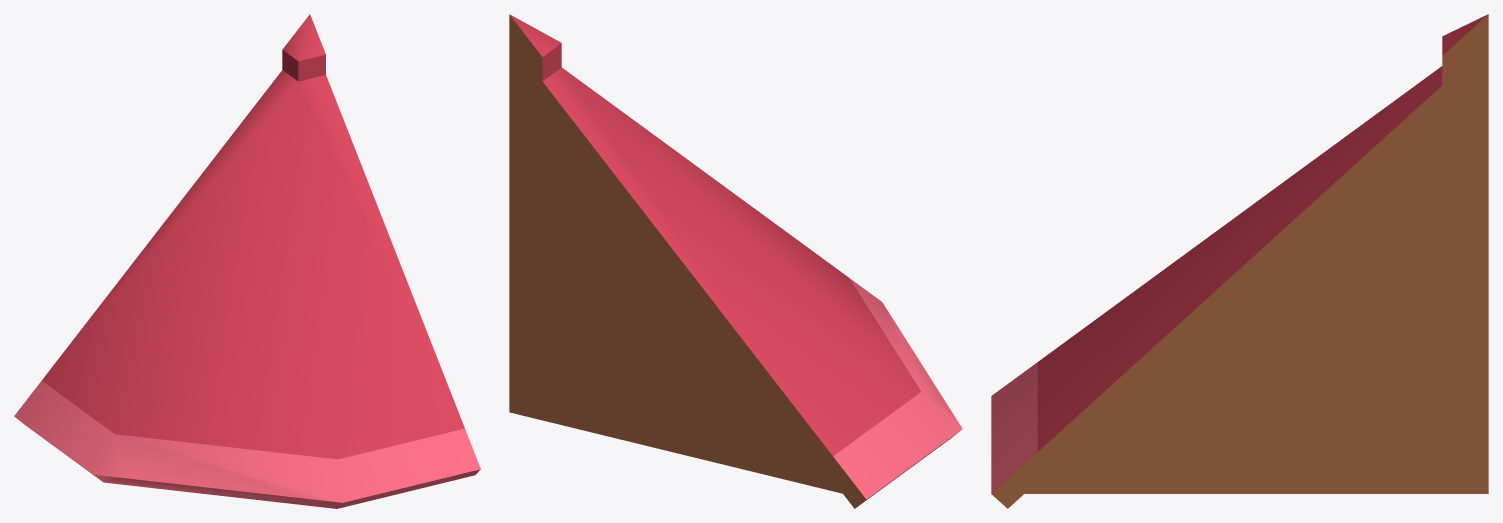
File: roofHighCornerRound.obj
The picture shows the model from 3 angles, left to right: view 1: azimuth 30°, elevation 25°; view 2: azimuth 150°, elevation 25°; view 3: azimuth 270°, elevation 25°; orthographic projection. The views are drawn at different scales.
Parts seen in each view (by area): view 1: roofHighCornerRound; view 2: roofHighCornerRound; view 3: roofHighCornerRound.
Boxes of the visible parts, <box> form: roofHighCornerRound: <box>14,14,480,508</box>; roofHighCornerRound: <box>509,14,962,508</box>; roofHighCornerRound: <box>991,14,1488,508</box>.
Size of the model in its own units: 1.07 by 1.18 by 1.07.
